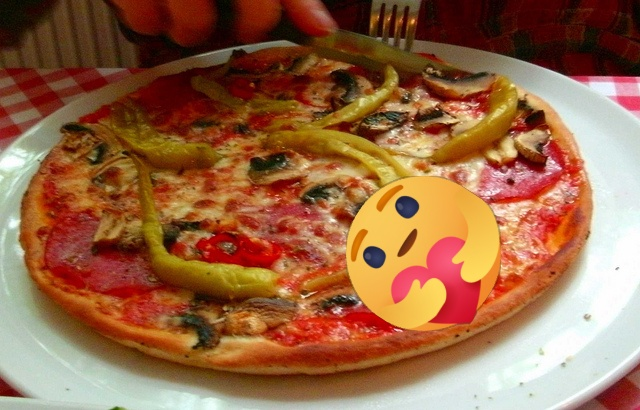care: (346, 176, 501, 331)
